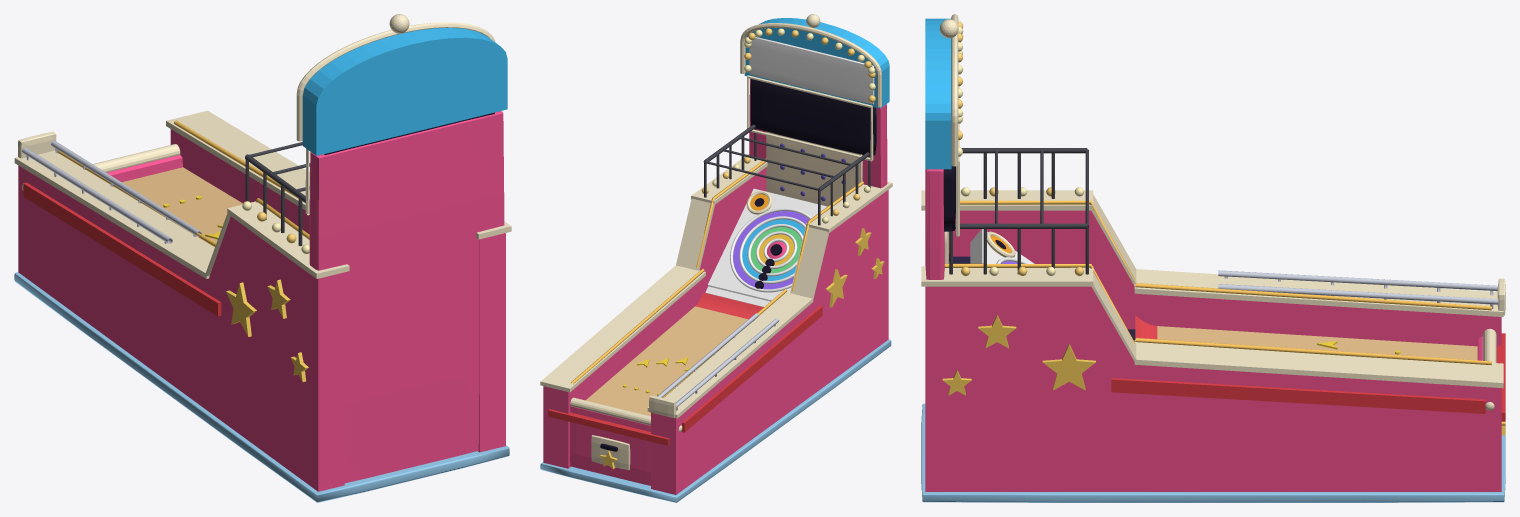
Rendered from ArcadeSkeeMachine.obj.
3 renders of one model, left to right at view 1: azimuth 30°, elevation 25°; view 2: azimuth 150°, elevation 25°; view 3: azimuth 270°, elevation 25°, orthographic. The views are drawn at different scales.
Visible parts, largest first — view 1: Cabinet, Marquee, Trim, Base, Lane, Stripes, Chute, Cage, Stars, Glow; view 2: Cabinet, Trim, Lane, Display, Sign, Back, Base, Marquee, Stripes, Board, Cage, Lips (+11 smaller); view 3: Cabinet, Trim, Base, Stripes, Glow, Lane, Marquee, Cage, Chute, Stars, Display, Board (+1 smaller).
Part boxes in pixels (<box>): Cabinet: <box>18,111,505,491</box>; Marquee: <box>302,27,507,155</box>; Trim: <box>14,14,511,278</box>; Base: <box>14,272,509,502</box>; Lane: <box>122,167,242,242</box>; Stripes: <box>23,182,221,316</box>; Chute: <box>22,140,201,243</box>; Cage: <box>245,142,310,245</box>; Stars: <box>226,279,308,381</box>; Glow: <box>58,120,309,246</box>; Cabinet: <box>543,79,888,494</box>; Trim: <box>540,14,892,470</box>; Lane: <box>586,306,747,416</box>; Display: <box>750,79,876,156</box>; Sign: <box>749,37,874,104</box>; Back: <box>766,131,862,206</box>; Base: <box>540,339,891,502</box>; Marquee: <box>744,18,889,108</box>; Stripes: <box>548,306,822,445</box>; Board: <box>705,188,827,306</box>; Cage: <box>703,124,870,225</box>; Lips: <box>730,208,811,292</box>; Cabinet: <box>925,169,1501,491</box>; Trim: <box>921,14,1505,410</box>; Base: <box>921,403,1505,502</box>; Stripes: <box>1111,333,1505,421</box>; Glow: <box>944,200,1491,365</box>; Lane: <box>1157,326,1477,360</box>; Marquee: <box>925,18,951,169</box>; Cage: <box>949,148,1088,274</box>; Chute: <box>1218,270,1498,308</box>; Stars: <box>942,314,1505,435</box>; Display: <box>943,166,955,231</box>; Board: <box>970,229,1034,263</box>.
Size of the model in its own units: 5.52 by 12.09 by 14.6.
